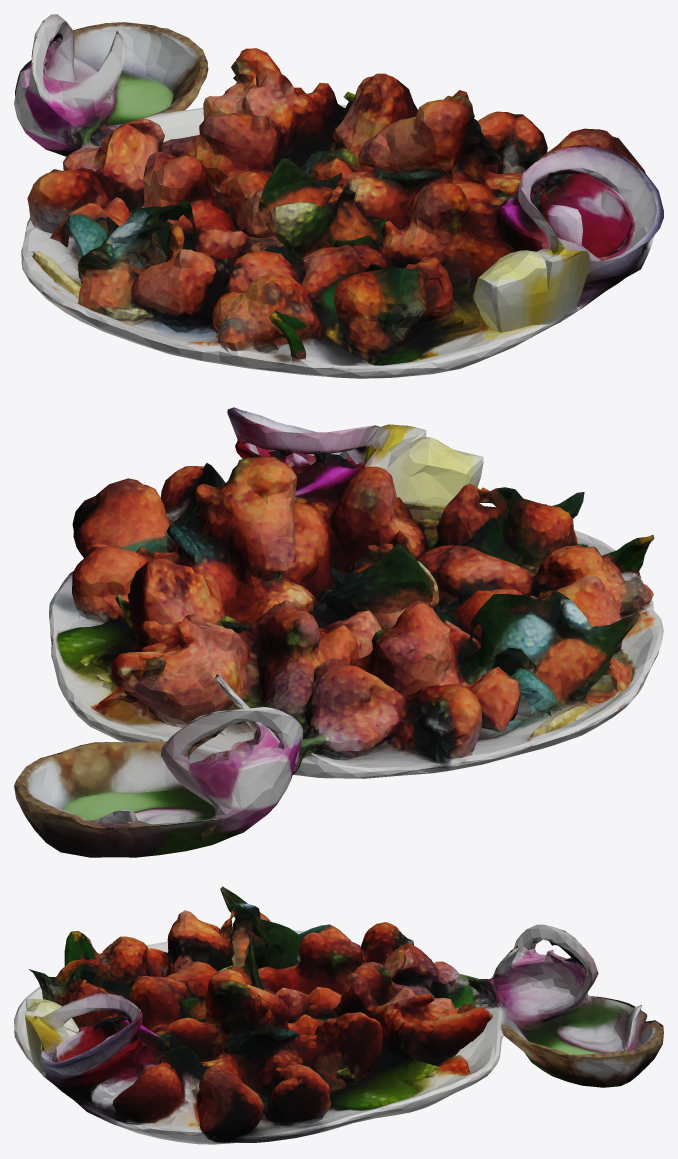
Rendered from chicken-65.glb.
3 renders of one model, top to bottom at view 1: azimuth 30°, elevation 25°; view 2: azimuth 150°, elevation 25°; view 3: azimuth 270°, elevation 25°, orthographic. The views are drawn at different scales.
Parts seen in each view (by area): view 1: world; view 2: world; view 3: world.
Boxes of the visible parts, bbox=[...] form: world: bbox=[14, 14, 663, 378]; world: bbox=[14, 407, 663, 857]; world: bbox=[14, 886, 663, 1144].
Size of the model in its own units: 0.7694 by 0.2142 by 0.9993.
Materials: 1 (1 with a texture image).
